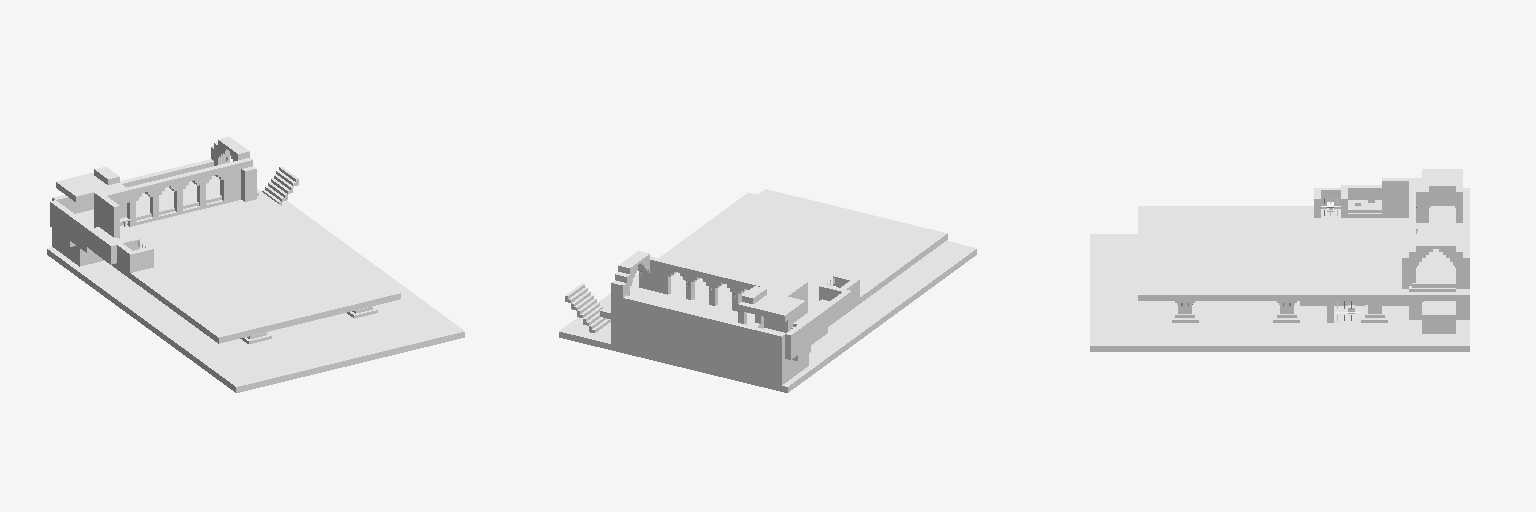
Rendered from map3.obj.
The picture shows the model from 3 angles: view 1: azimuth 30°, elevation 25°; view 2: azimuth 150°, elevation 25°; view 3: azimuth 270°, elevation 25°; orthographic projection.
Visible parts, largest first — view 1: New_World_(1)__184_4_-96_to_223_255_-41; view 2: New_World_(1)__184_4_-96_to_223_255_-41; view 3: New_World_(1)__184_4_-96_to_223_255_-41.
Boxes of the visible parts, x1,y1,x2,y2 form: New_World_(1)__184_4_-96_to_223_255_-41: [47, 136, 464, 392]; New_World_(1)__184_4_-96_to_223_255_-41: [559, 189, 976, 392]; New_World_(1)__184_4_-96_to_223_255_-41: [1090, 169, 1469, 351].
Size of the model in its own units: 39 by 13 by 56.